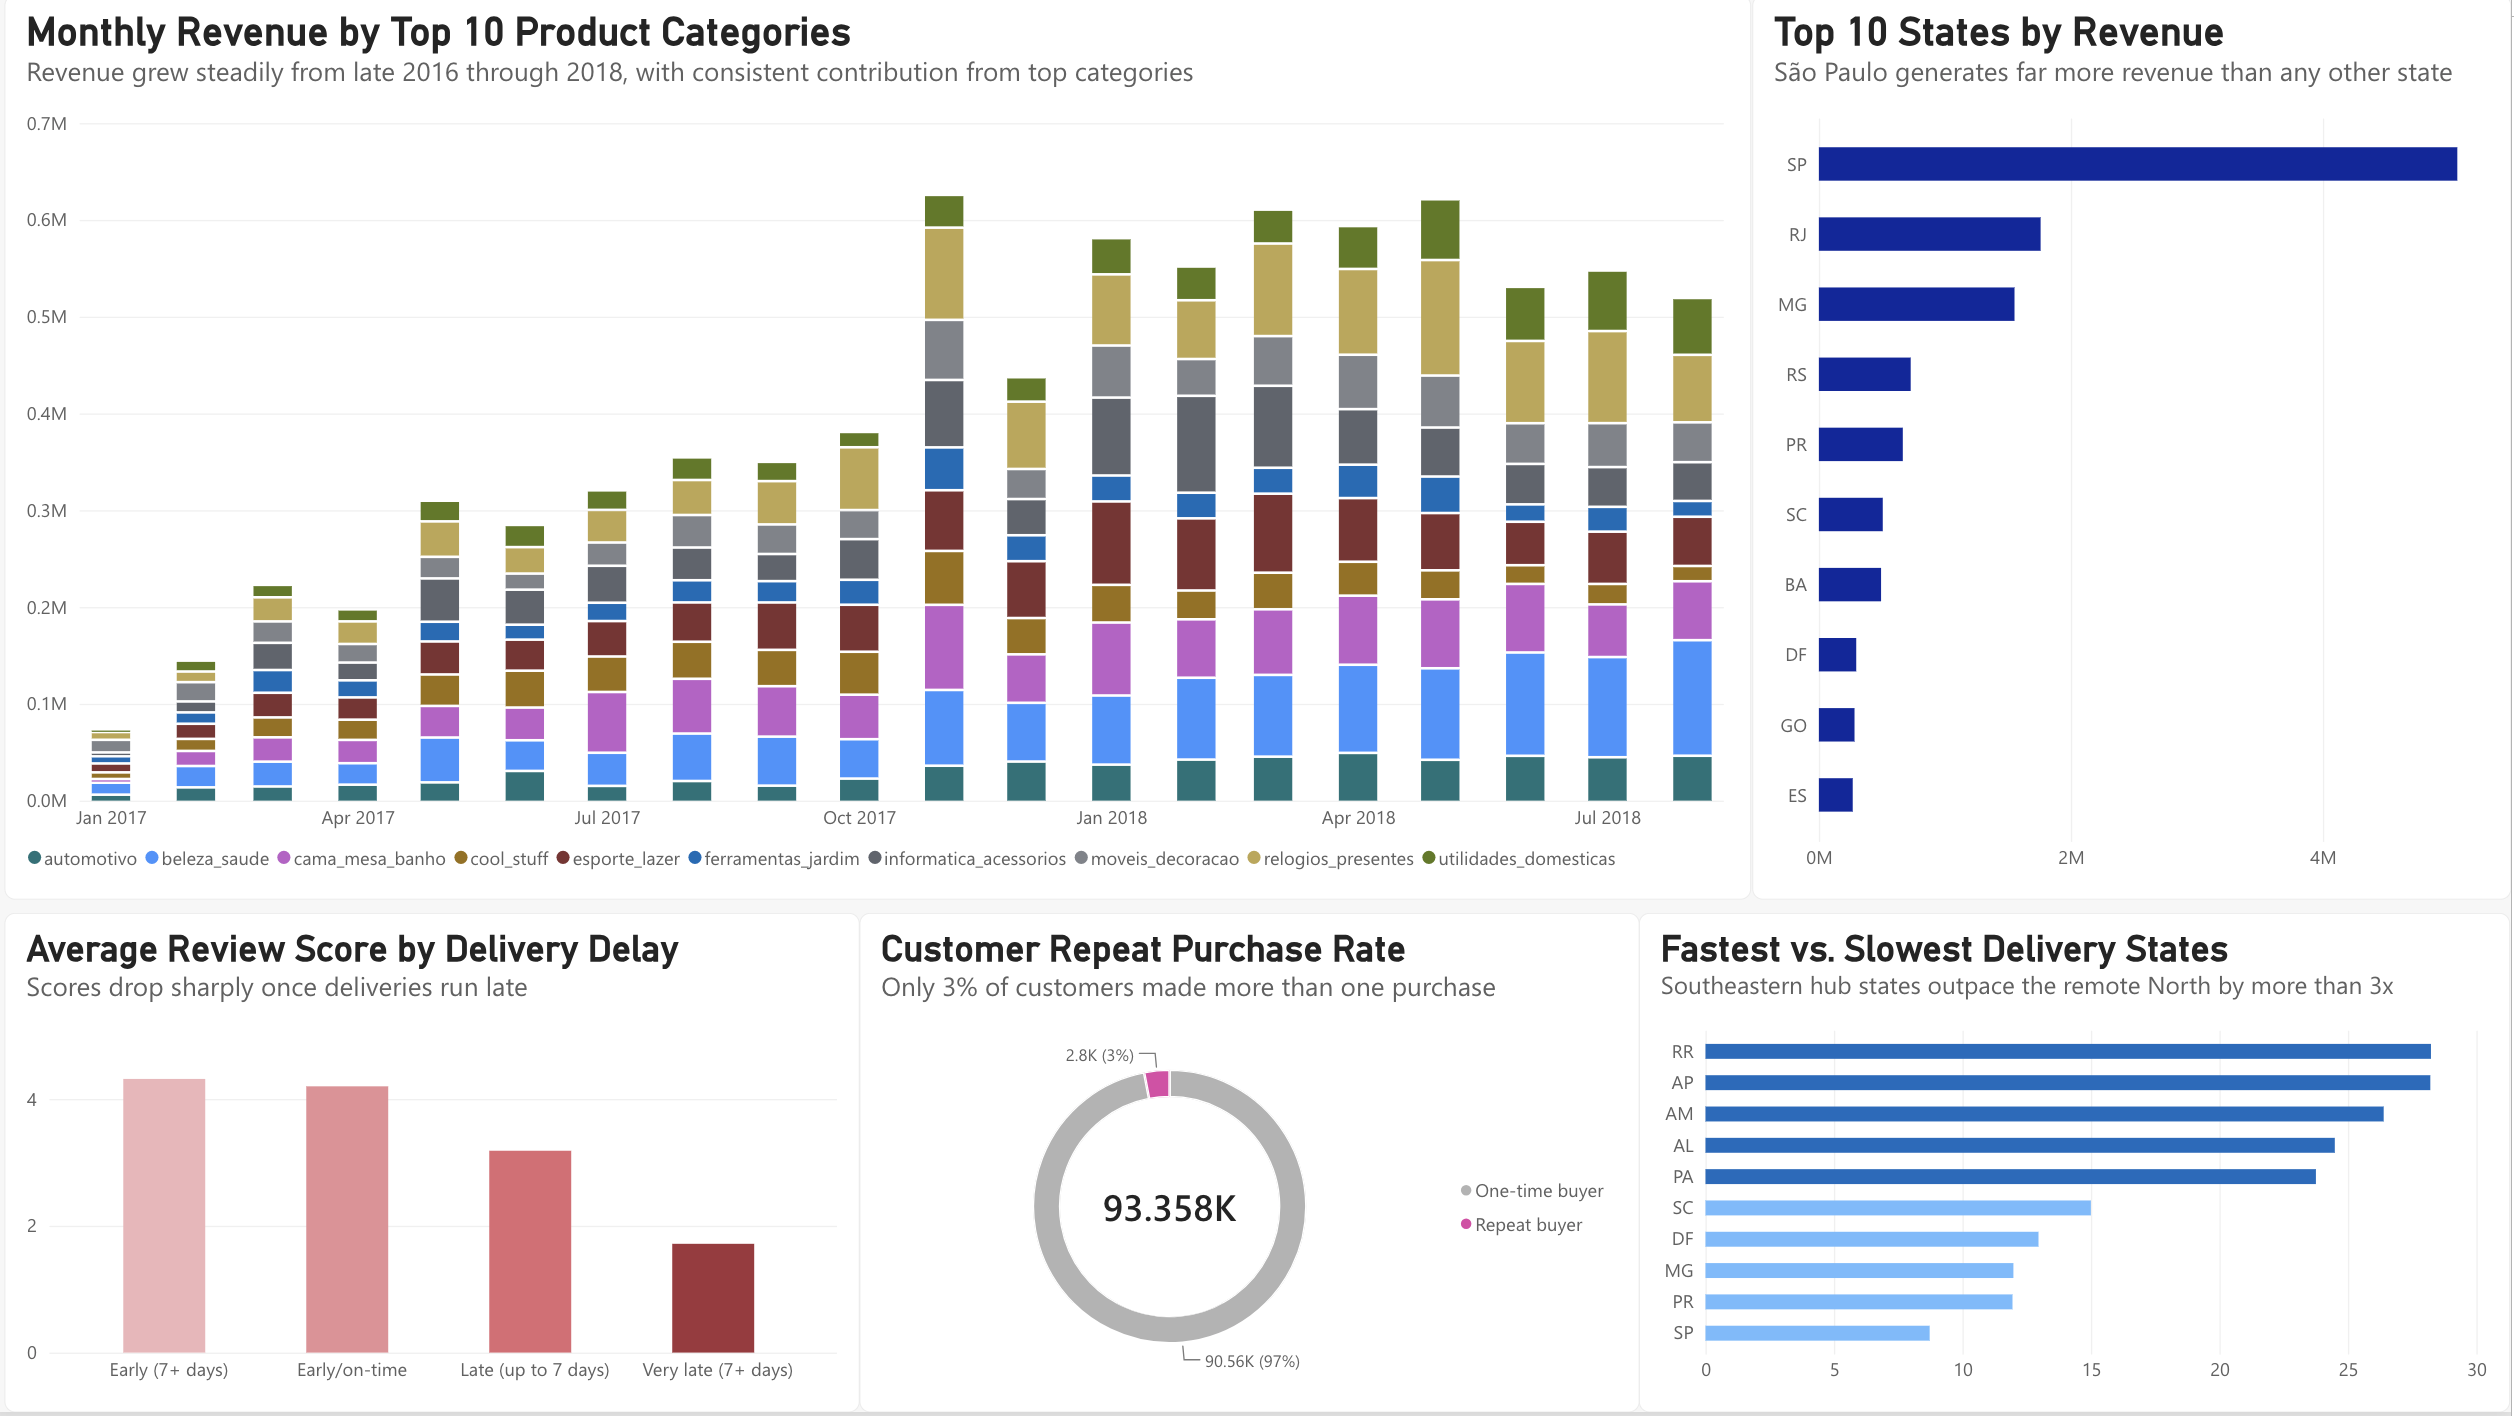

The page's visual inventory and layout, read from the dashboard file:
{"tool":"powerbi","page":{"name":"Page 1","canvas":[1920,1080],"ordinal":0},"visuals":[{"type":"columnChart","title":"Monthly Revenue by Top 10 Product Categories","fields":{"Category":["category_revenue_by_month.month"],"Series":["category_revenue_by_month.product_category_name"],"Y":["Sum(category_revenue_by_month.revenue)"]},"box":[9.9,0,1331.2,689.4],"z":0},{"type":"clusteredColumnChart","title":"Average Review Score by Delivery Delay","fields":{"Category":["delay_bucket_summary.delay_bucket"],"Y":["Avg(delay_bucket_summary.mean)"]},"box":[9.9,699.3,651.7,380.3],"z":1},{"type":"donutChart","title":"Customer Repeat Purchase Rate","fields":{"Category":["customer_order_counts.customer_type"],"Y":["CountNonNull(customer_order_counts.customer_unique_id)"]},"box":[661.6,699.3,594.3,380.3],"z":2},{"type":"barChart","title":"Top 10 States by Revenue","fields":{"Category":["revenue_delivery_by_state.customer_state"],"Y":["Sum(revenue_delivery_by_state.total_revenue)"]},"box":[1341.1,0,578.4,689.4],"z":3},{"type":"barChart","title":"Fastest vs. Slowest Delivery States","fields":{"Category":["revenue_delivery_by_state.customer_state"],"Y":["Avg(revenue_delivery_by_state.avg_delivery_days)"]},"box":[1255.9,699.3,663.6,380.3],"z":4}]}

Visuals, with their boxes in screenshot pixels (x1, y1, x2, y2), scaled from the page's 1920x1080 canvas onto the 2514x1416 screenshot:
"Monthly Revenue by Top 10 Product Categories" columnChart: detection(13, 0, 1756, 904)
"Average Review Score by Delivery Delay" clusteredColumnChart: detection(13, 917, 866, 1415)
"Customer Repeat Purchase Rate" donutChart: detection(866, 917, 1644, 1415)
"Top 10 States by Revenue" barChart: detection(1756, 0, 2513, 904)
"Fastest vs. Slowest Delivery States" barChart: detection(1644, 917, 2513, 1415)
